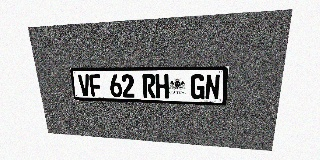2: (121, 74, 135, 98)
6: (109, 74, 122, 97)
F: (89, 74, 102, 97)
G: (191, 74, 205, 100)
H: (155, 74, 169, 99)
N: (205, 74, 220, 100)
R: (142, 74, 156, 98)
V: (78, 74, 91, 96)
